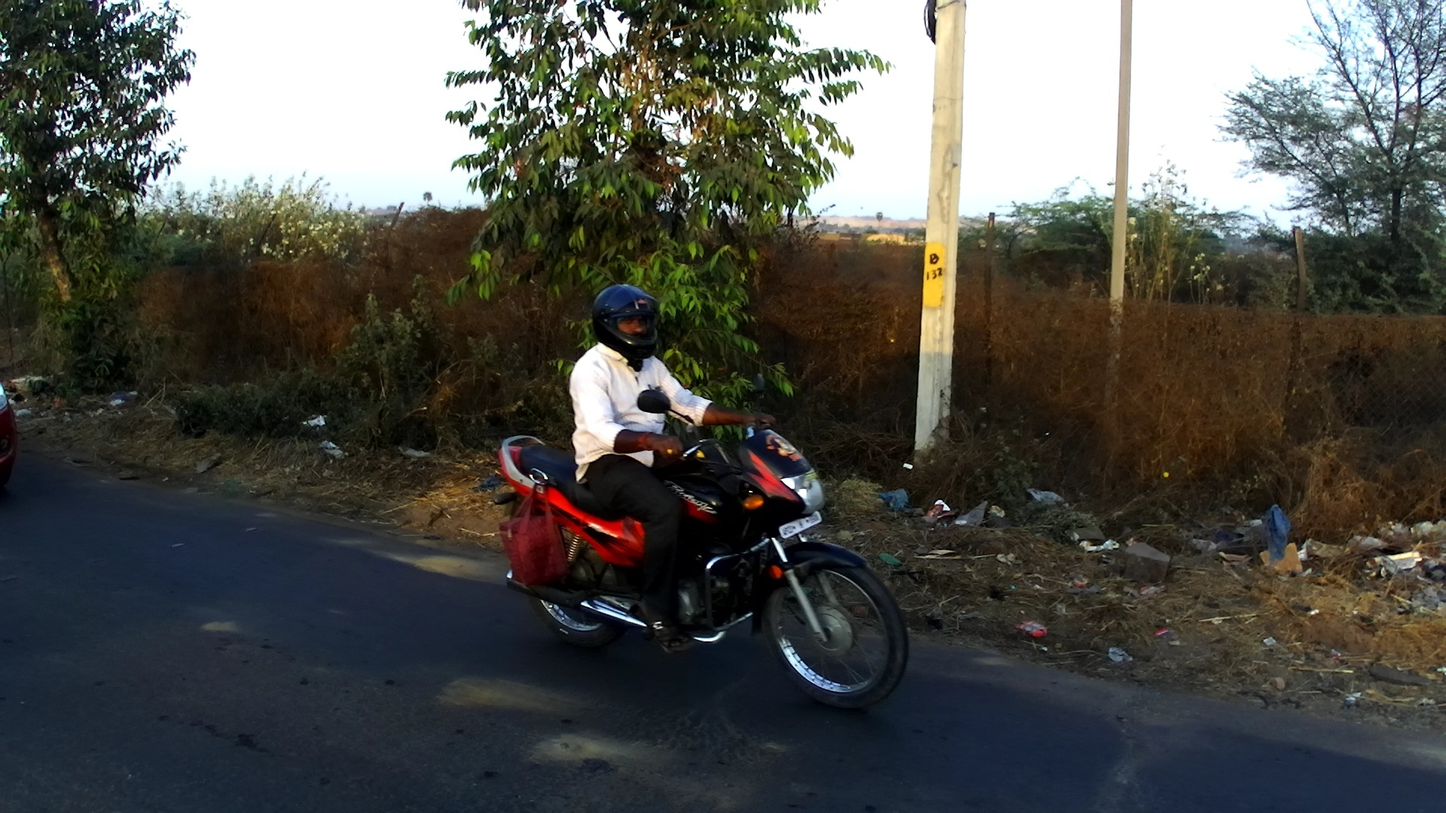car: (0, 380, 18, 516)
motorcycle: (490, 390, 914, 714)
rider: (566, 282, 779, 661)
